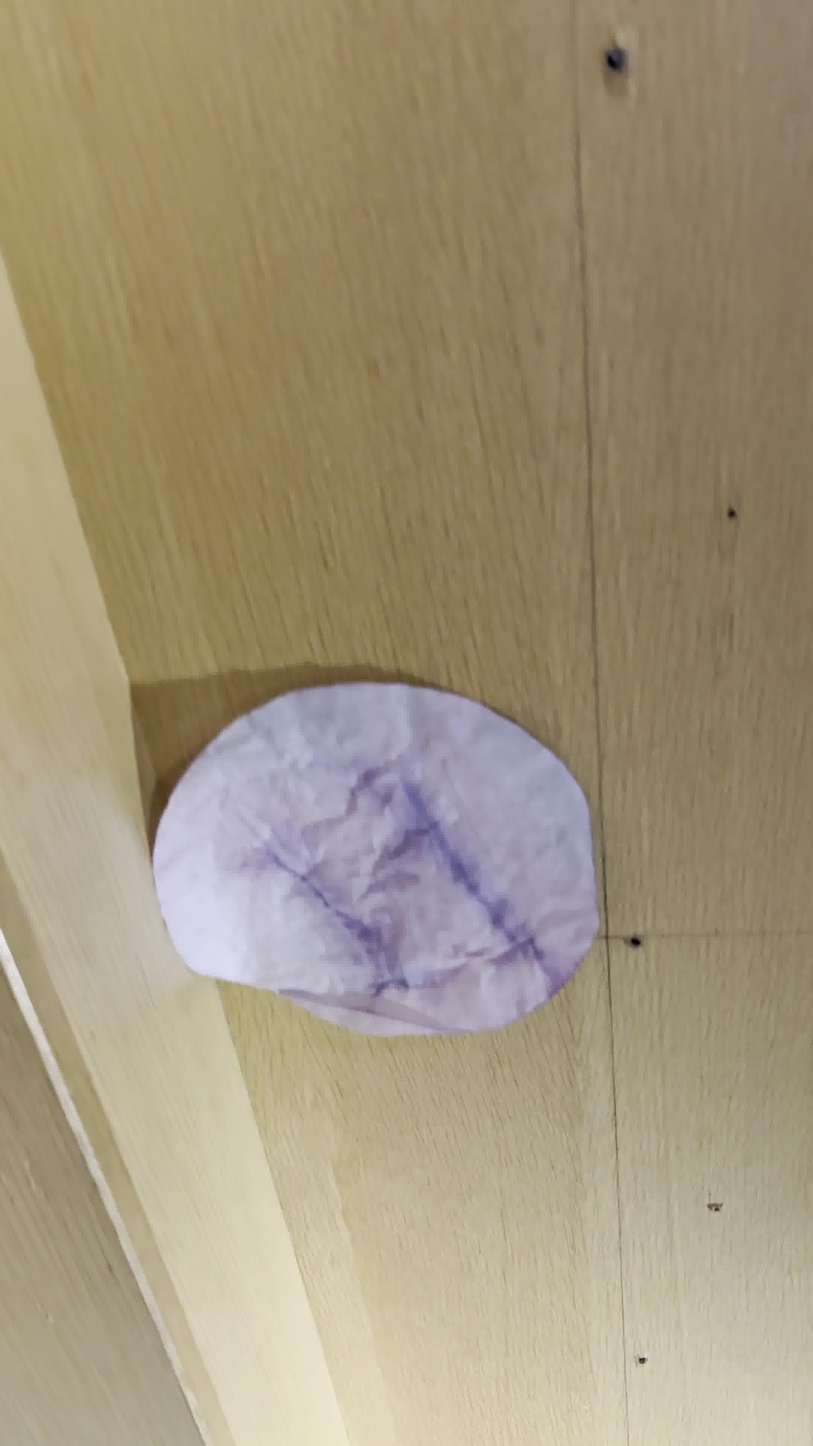Target: (152, 683, 598, 1038)
